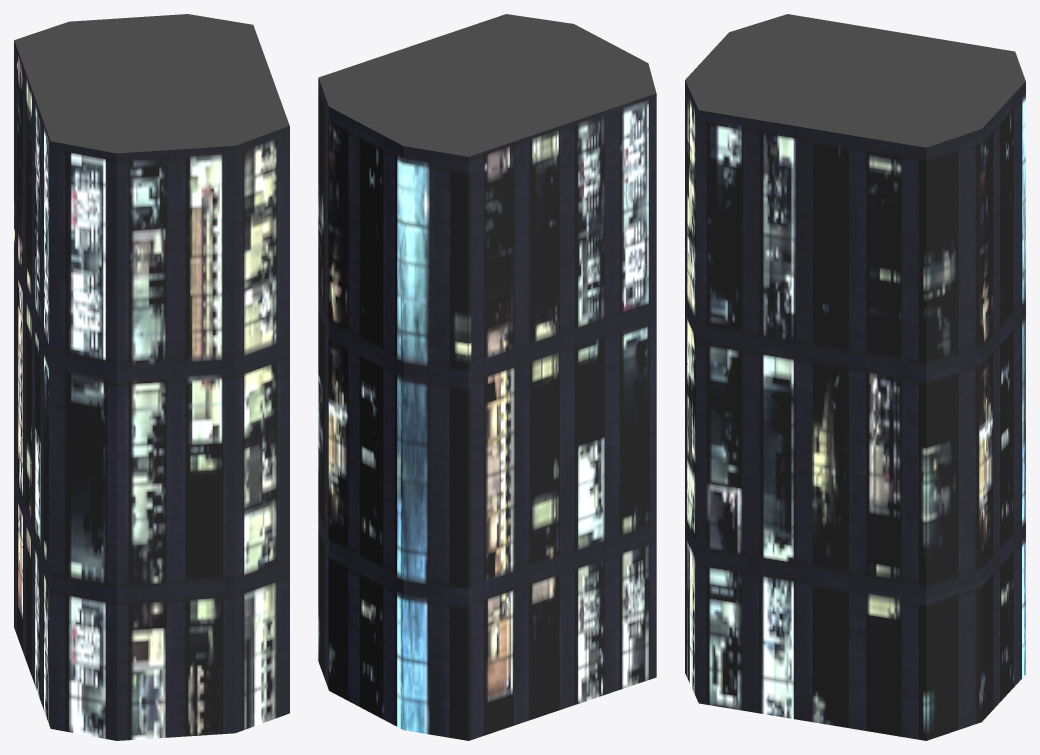
The model's file is Building_02.fbx.
The picture shows the model from 3 angles, left to right: view 1: azimuth 30°, elevation 25°; view 2: azimuth 150°, elevation 25°; view 3: azimuth 270°, elevation 25°; orthographic projection.
Visible parts, largest first — view 1: Building_02; view 2: Building_02; view 3: Building_02.
Part boxes in pixels (box(x1,y1,x2,y2)): Building_02: box(14, 14, 289, 740); Building_02: box(318, 14, 656, 740); Building_02: box(685, 14, 1025, 740).
Bounding box in the file's own units: 2659 × 5501 × 2864.
